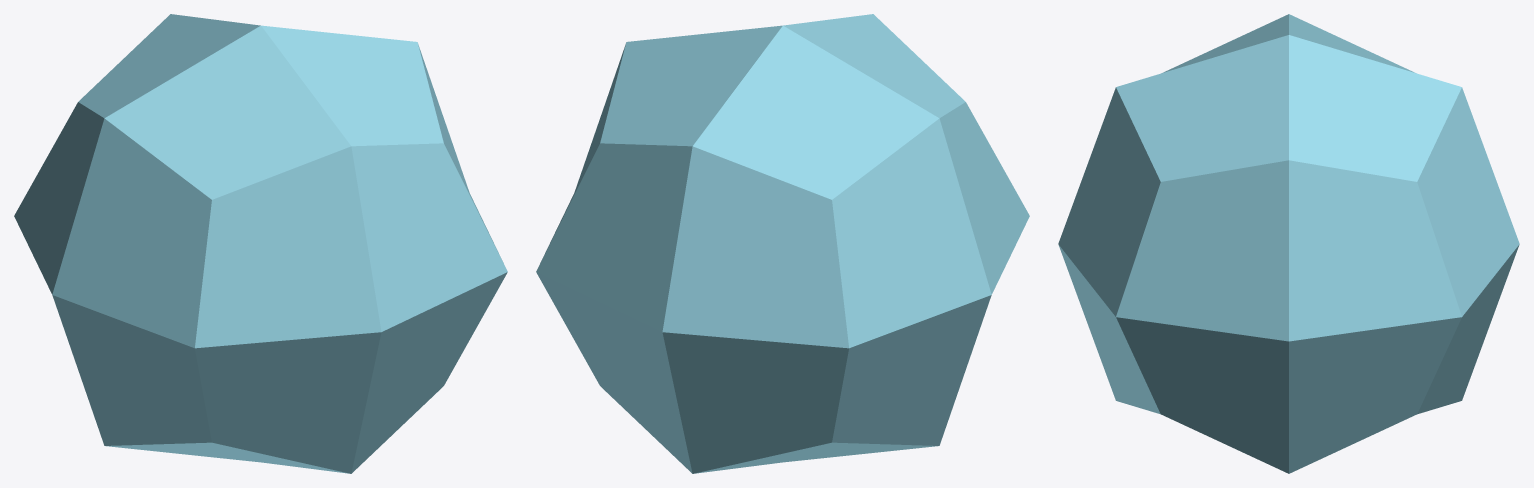
The model's file is bubble2.fbx.
3 views of the same model, side by side, from view 1: azimuth 30°, elevation 25°; view 2: azimuth 150°, elevation 25°; view 3: azimuth 270°, elevation 25° (orthographic). The views are drawn at different scales.
Parts seen in each view (by area): view 1: pCube1; view 2: pCube1; view 3: pCube1.
Part boxes in pixels (box(x1,y1,x2,y2)): pCube1: box(14, 14, 507, 473); pCube1: box(536, 14, 1029, 473); pCube1: box(1058, 14, 1519, 473).
Bounding box in the file's own units: 1 × 1 × 1.
1 material, 1 textured.
